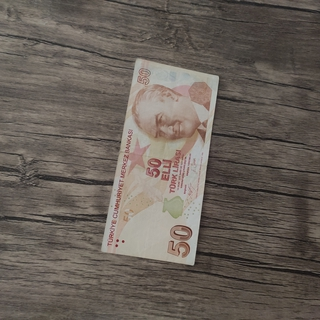50TLFront: (101, 56, 219, 266)
